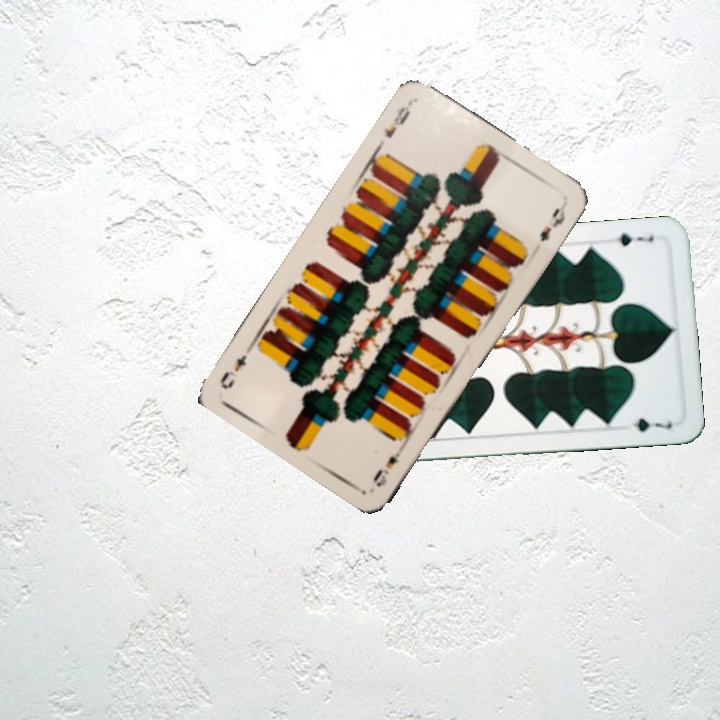E9: (368, 440, 408, 490), (379, 101, 413, 141)
G7: (613, 229, 656, 249)
